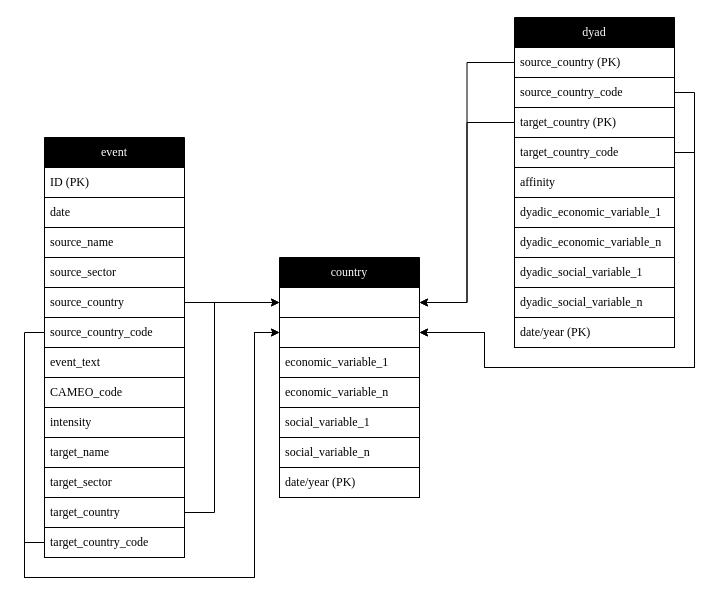
This 720x603 diagram has some shape labels left out. Here are the shapes that lost their labels. From the top down, the box of each, then its label:
(278, 286, 420, 318): name (PK)
(278, 316, 420, 348): country_code
